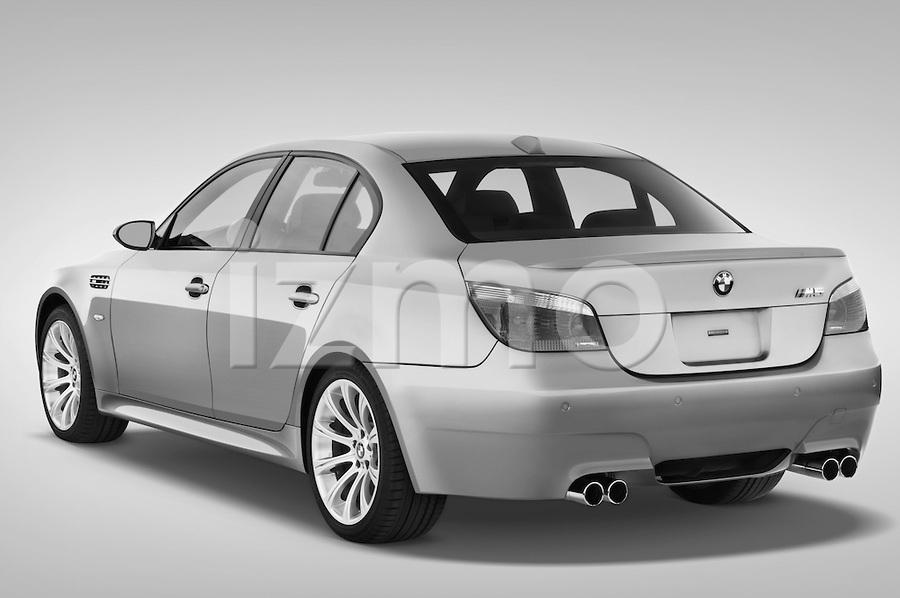car: (34, 134, 883, 546)
